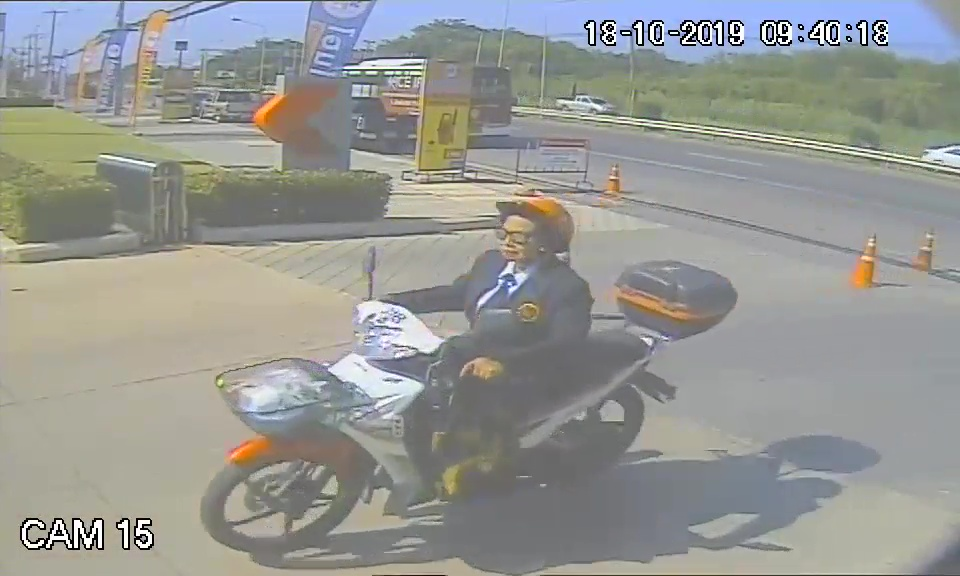motorcycle: (199, 301, 681, 550)
